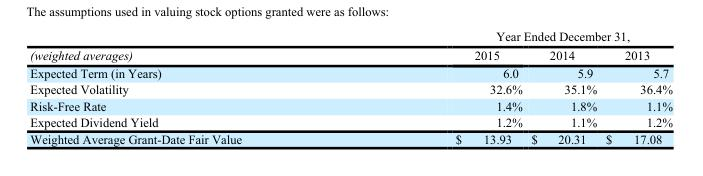table: (29, 29, 671, 145)
table column: (29, 29, 347, 145), (347, 29, 526, 145), (526, 29, 600, 145), (600, 29, 671, 145)
table column header: (29, 29, 671, 63)
table row: (29, 45, 671, 63), (29, 63, 671, 80), (29, 80, 671, 97), (29, 113, 671, 130), (29, 29, 671, 45), (29, 97, 671, 113), (29, 130, 671, 145)
table spanning cell: (29, 29, 347, 63), (347, 29, 671, 45)
